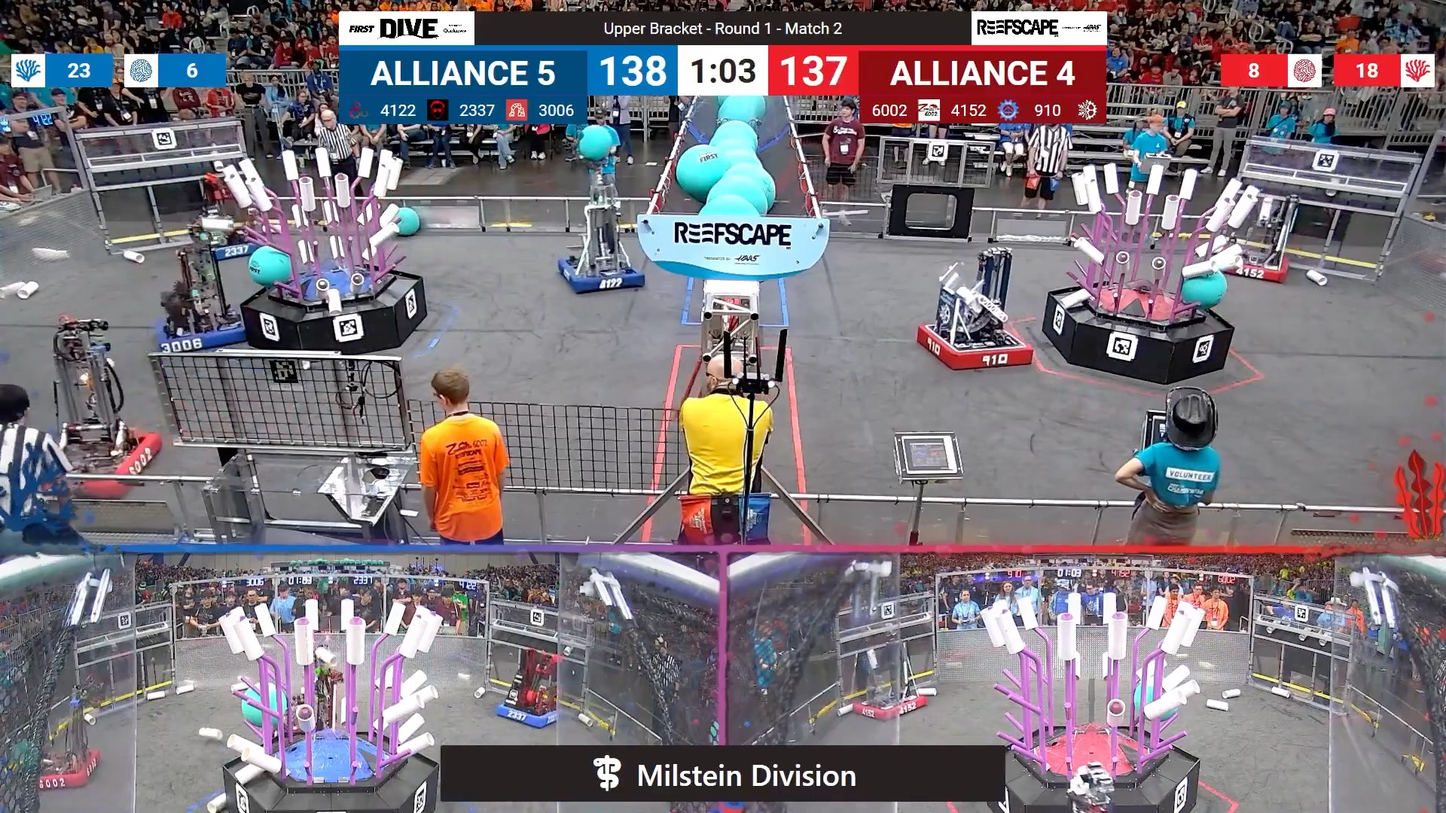bumpers: (37, 422, 166, 498), (913, 317, 1040, 376), (146, 306, 252, 356), (552, 251, 651, 295), (36, 740, 106, 796), (1213, 246, 1297, 285), (846, 689, 932, 723), (488, 696, 567, 732), (194, 239, 273, 263)
